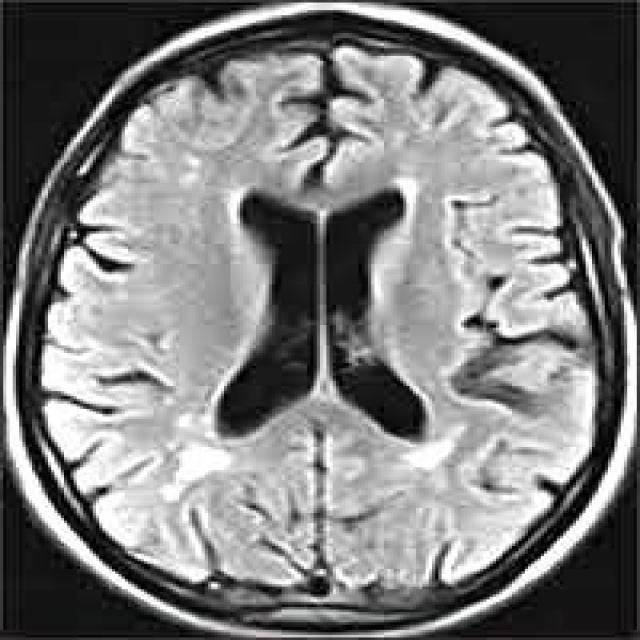notumor: (3, 8, 634, 635)
